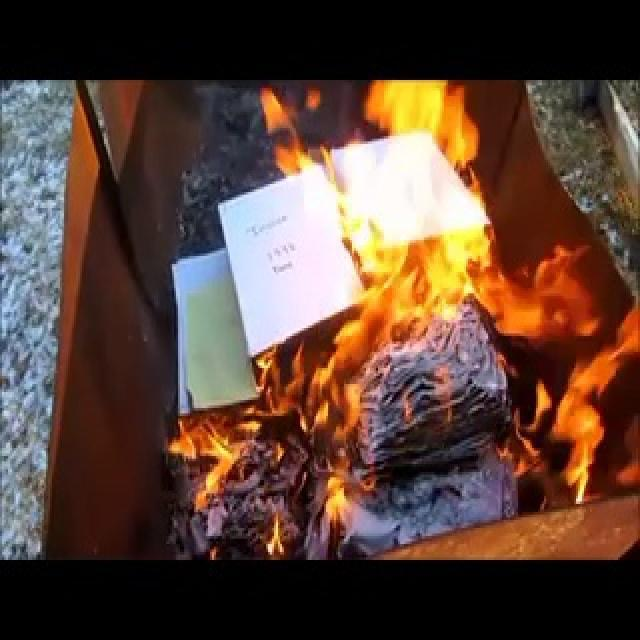fire: (294, 77, 572, 448), (160, 398, 258, 538)
